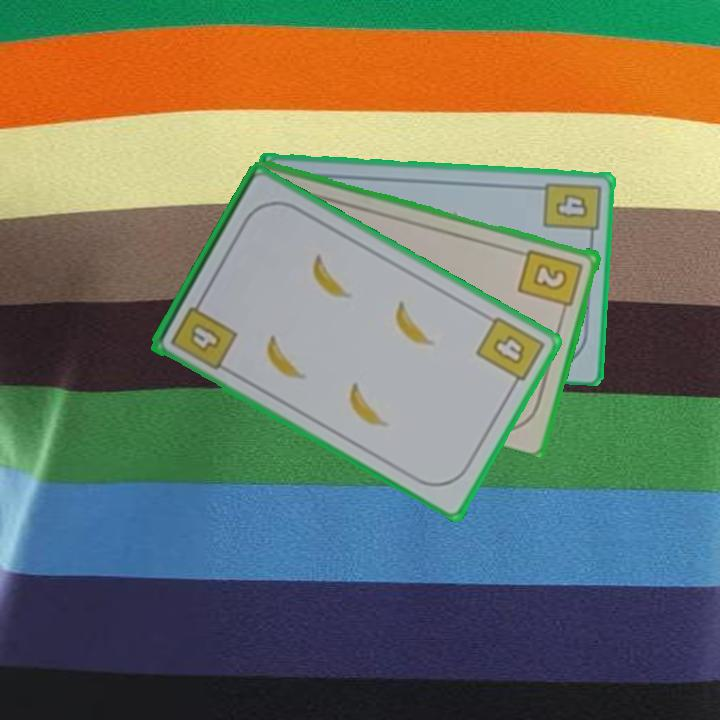2b: (515, 245, 586, 318)
4b: (472, 312, 548, 393), (167, 293, 241, 373), (540, 178, 603, 244)
